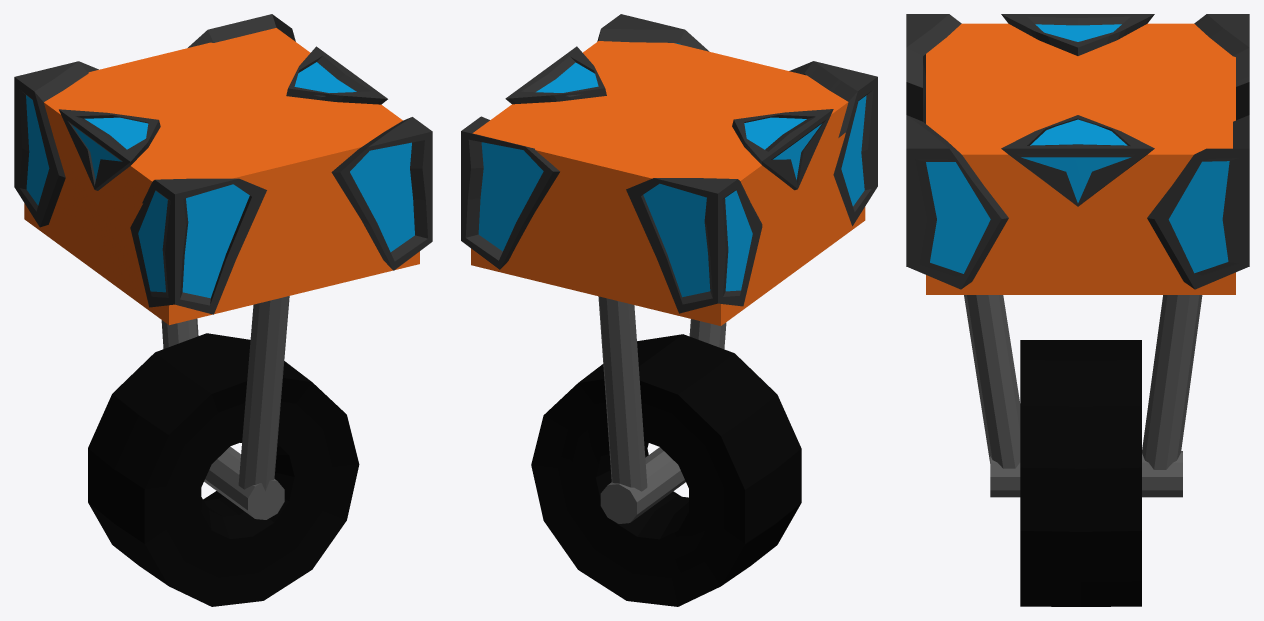
The model's file is AccelerationWheel.fbx.
The picture shows the model from 3 angles, left to right: view 1: azimuth 30°, elevation 25°; view 2: azimuth 150°, elevation 25°; view 3: azimuth 270°, elevation 25°; orthographic projection. The views are drawn at different scales.
Parts seen in each view (by area): view 1: Cube.002, Torus, Cube.004, Cylinder, Cylinder.003, Cylinder.001; view 2: Cube.002, Torus, Cube.004, Cylinder.001, Cylinder.003, Cylinder; view 3: Cube.002, Cube.004, Torus, Cylinder.001, Cylinder, Cylinder.003.
Boxes of the visible parts, <box> form: Cube.002: <box>24,28,419,325</box>; Torus: <box>88,333,359,606</box>; Cube.004: <box>14,14,432,314</box>; Cylinder: <box>238,296,289,490</box>; Cylinder.003: <box>204,446,284,519</box>; Cylinder.001: <box>161,318,198,348</box>; Cube.002: <box>471,41,865,325</box>; Torus: <box>531,334,801,606</box>; Cube.004: <box>461,14,877,313</box>; Cylinder.001: <box>598,296,647,491</box>; Cylinder.003: <box>600,447,685,523</box>; Cylinder: <box>689,319,726,348</box>; Cube.002: <box>926,23,1235,294</box>; Cube.004: <box>906,14,1249,289</box>; Torus: <box>1020,340,1141,606</box>; Cylinder.001: <box>1142,295,1202,469</box>; Cylinder: <box>964,295,1020,468</box>; Cylinder.003: <box>990,451,1182,497</box>.
Size of the model in its own units: 206 by 366 by 222.
